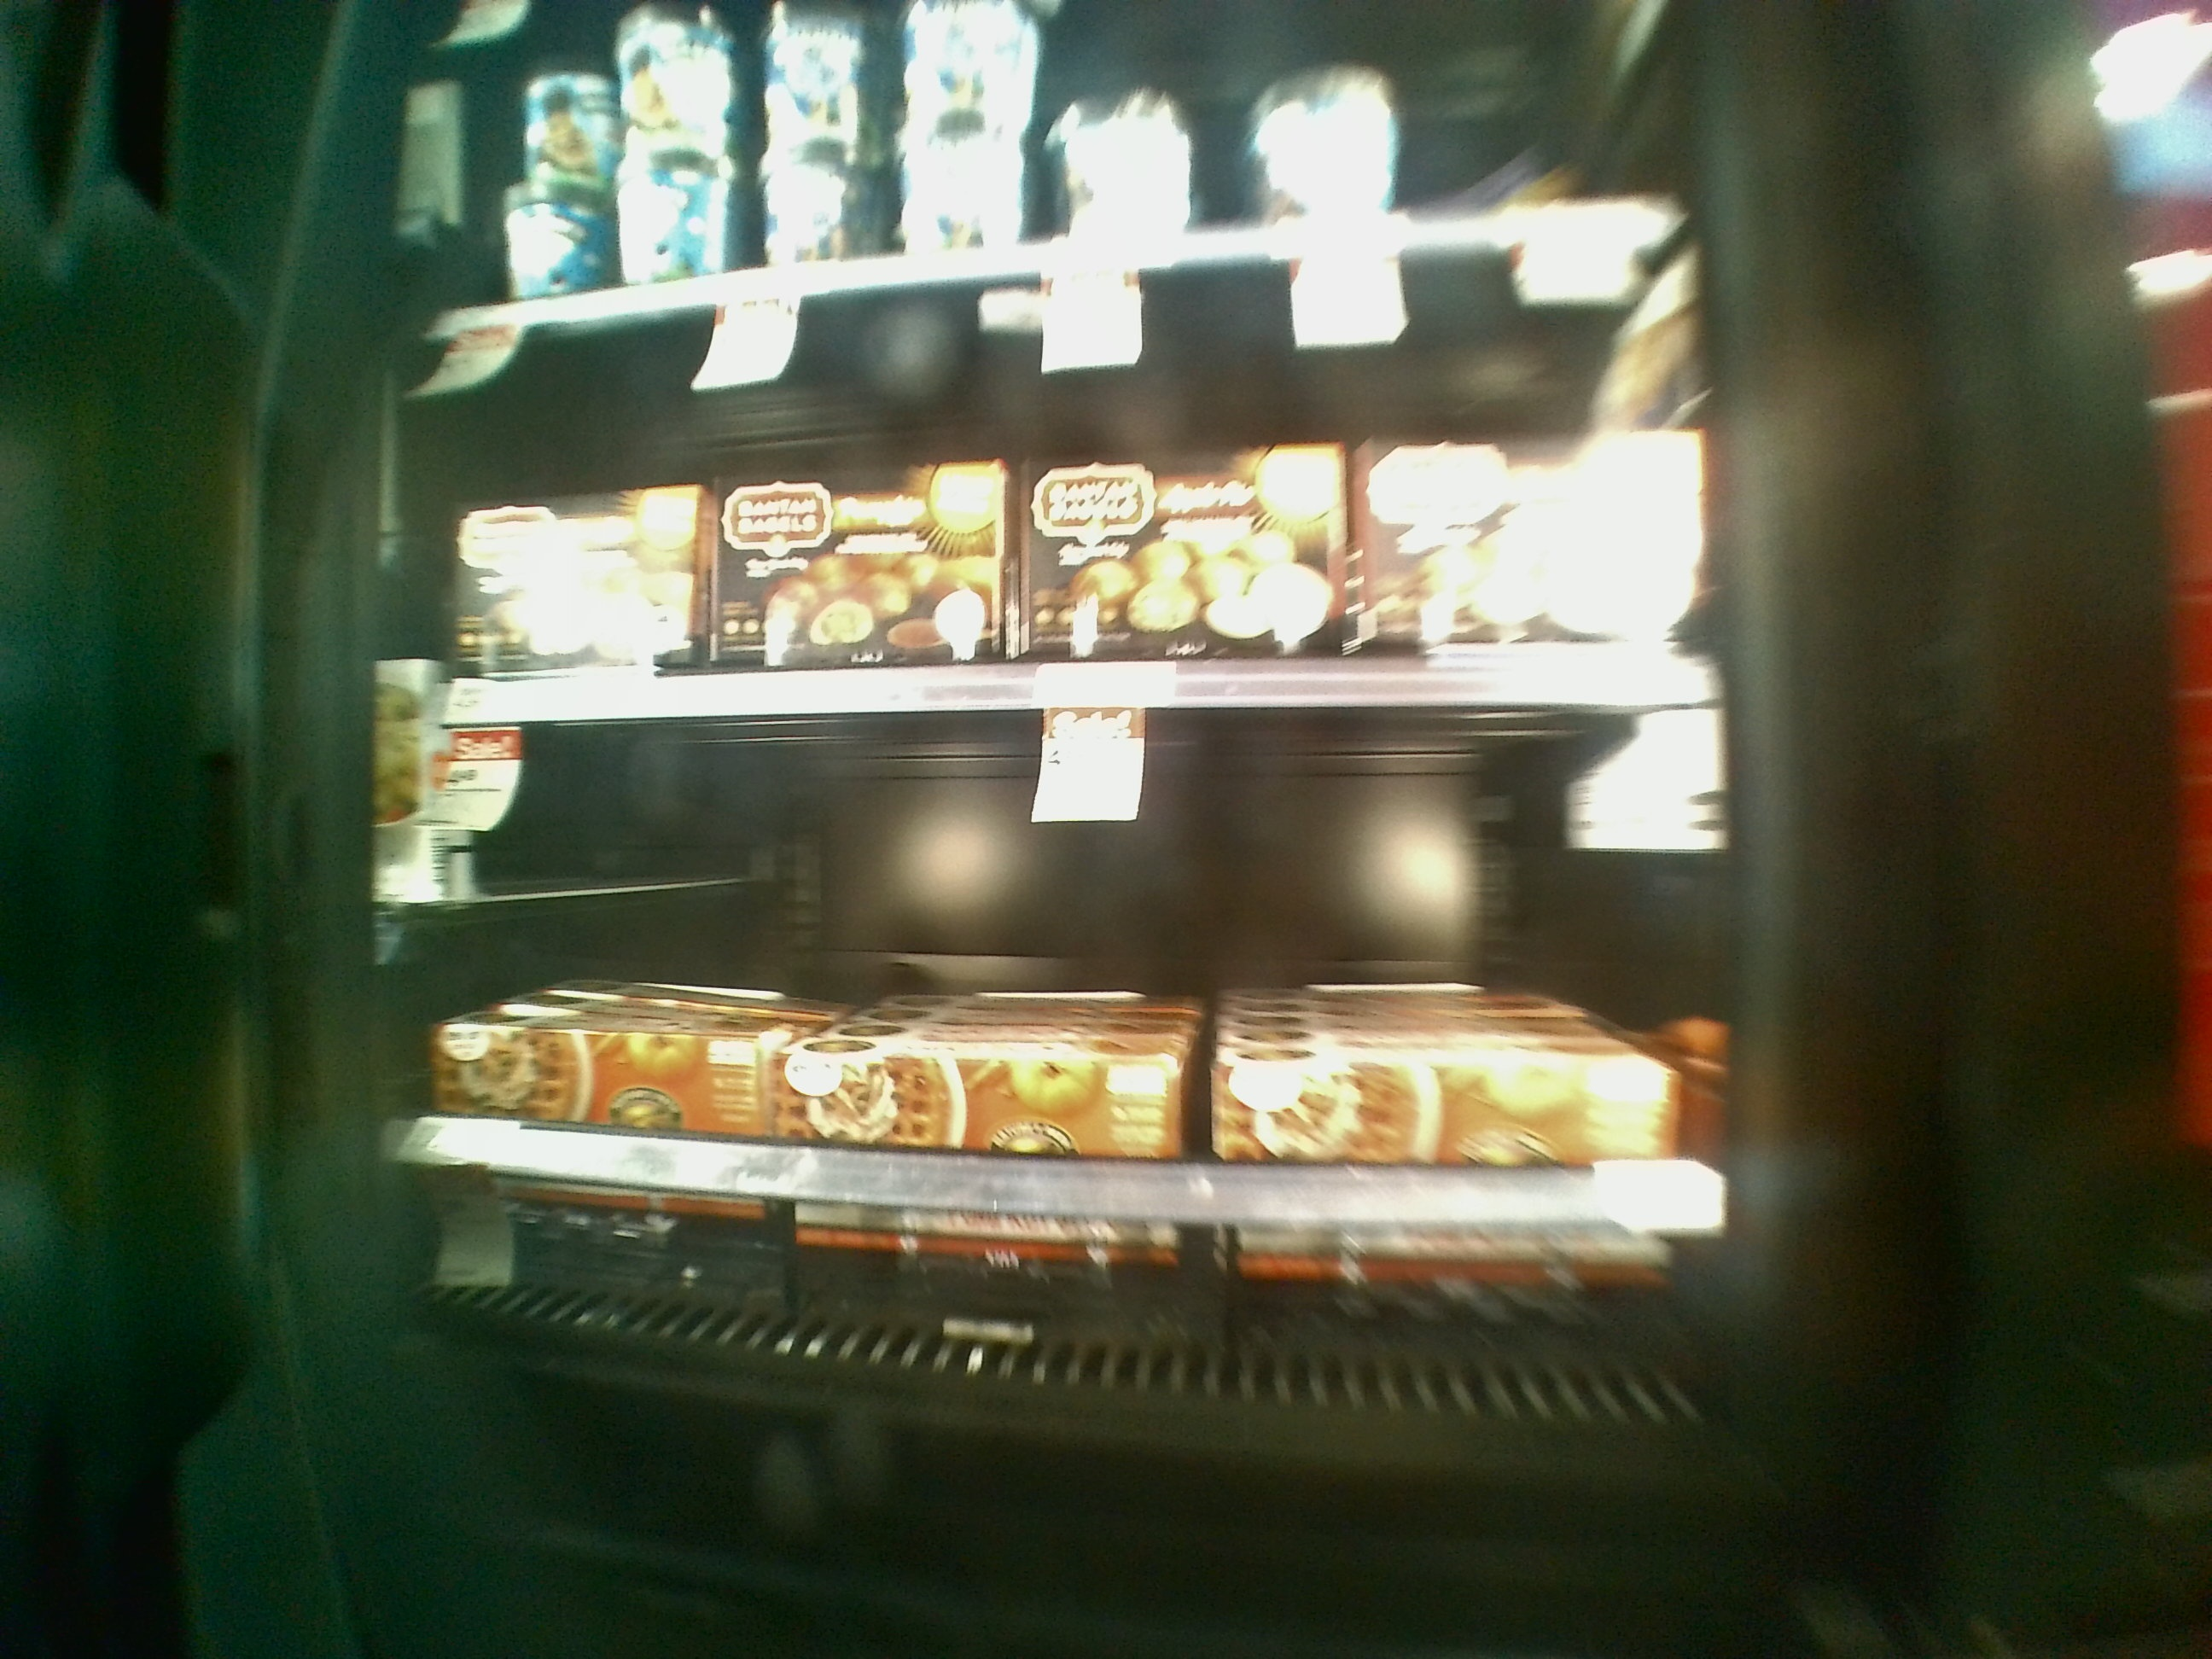shelf: (355, 683, 1730, 1452), (388, 308, 1740, 716)
